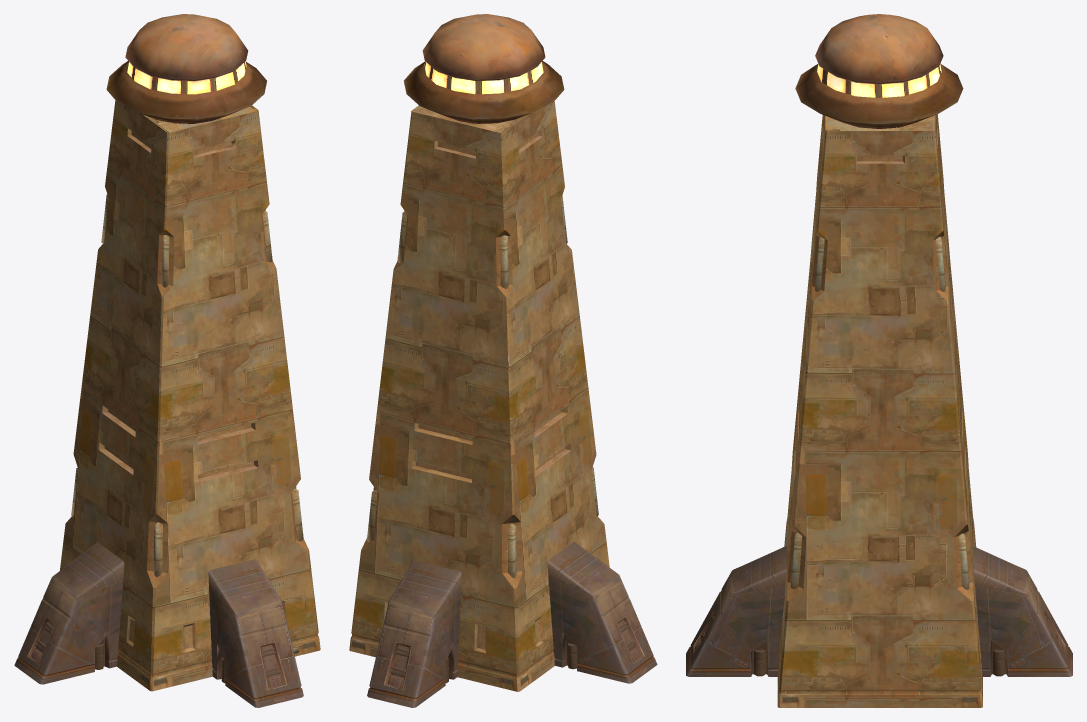
Rendered from all_arch_und_wall_20m_pillar.glb.
3 renders of one model, left to right at view 1: azimuth 30°, elevation 25°; view 2: azimuth 150°, elevation 25°; view 3: azimuth 270°, elevation 25°, orthographic. The views are drawn at different scales.
Visible parts, largest first — view 1: all_arch_und_wall_20m_pillar; view 2: all_arch_und_wall_20m_pillar; view 3: all_arch_und_wall_20m_pillar.
Part boxes in pixels (x1,y1,x2,y2): all_arch_und_wall_20m_pillar: [14, 14, 320, 707]; all_arch_und_wall_20m_pillar: [349, 14, 657, 707]; all_arch_und_wall_20m_pillar: [686, 14, 1072, 707].
Bounding box in the file's own units: 1.65 × 3.91 × 2.14.
3 materials, 3 textured.
